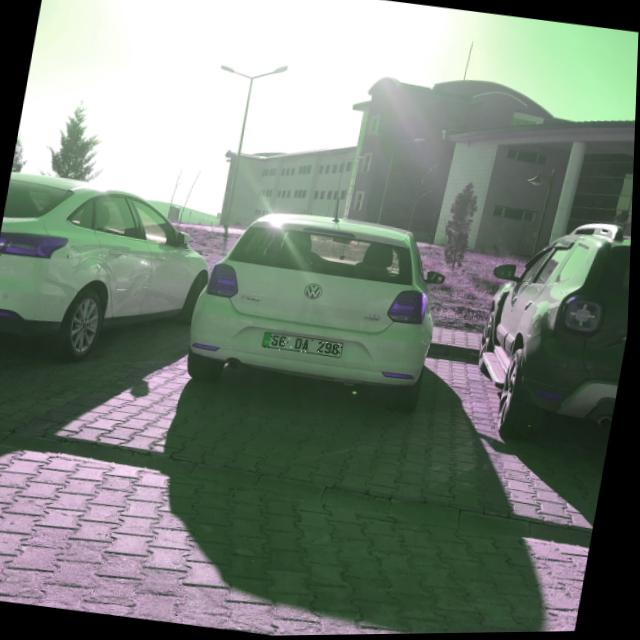license_plate: (265, 332, 347, 360)
